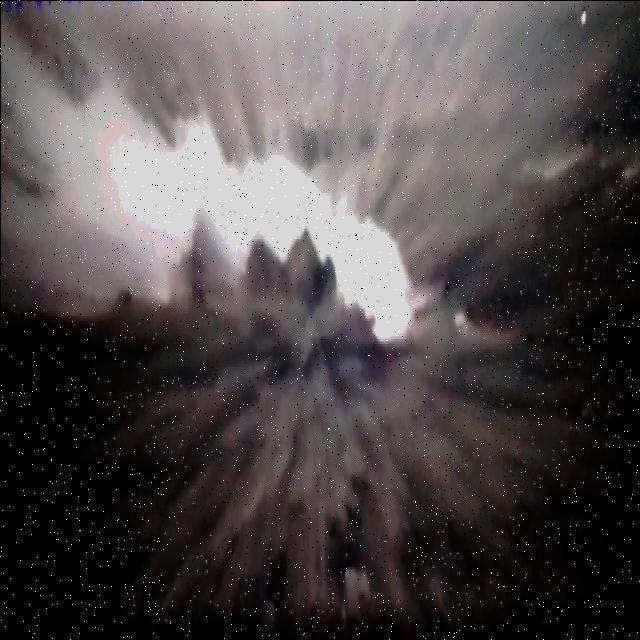asap: (1, 60, 422, 362)
